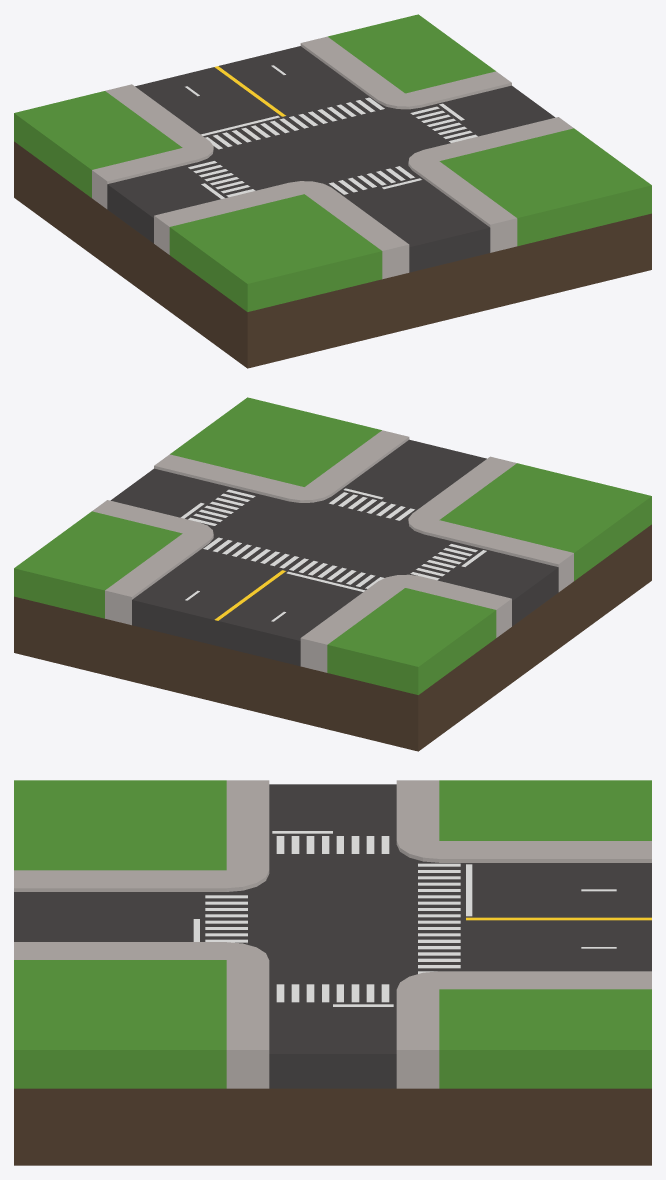
Rendered from tile-roads-mainroad-intersection.glb.
3 renders of one model, top to bottom at view 1: azimuth 30°, elevation 25°; view 2: azimuth 150°, elevation 25°; view 3: azimuth 270°, elevation 25°, orthographic. The views are drawn at different scales.
Parts seen in each view (by area): view 1: tile-roads-mainroad-intersection; view 2: tile-roads-mainroad-intersection; view 3: tile-roads-mainroad-intersection.
Part boxes in pixels (left/top/right/bottom): tile-roads-mainroad-intersection: left=14, top=14, right=651, bottom=368; tile-roads-mainroad-intersection: left=14, top=397, right=651, bottom=751; tile-roads-mainroad-intersection: left=14, top=780, right=651, bottom=1165.
Size of the model in its own units: 30 by 6 by 30.
1 material, 1 textured.
